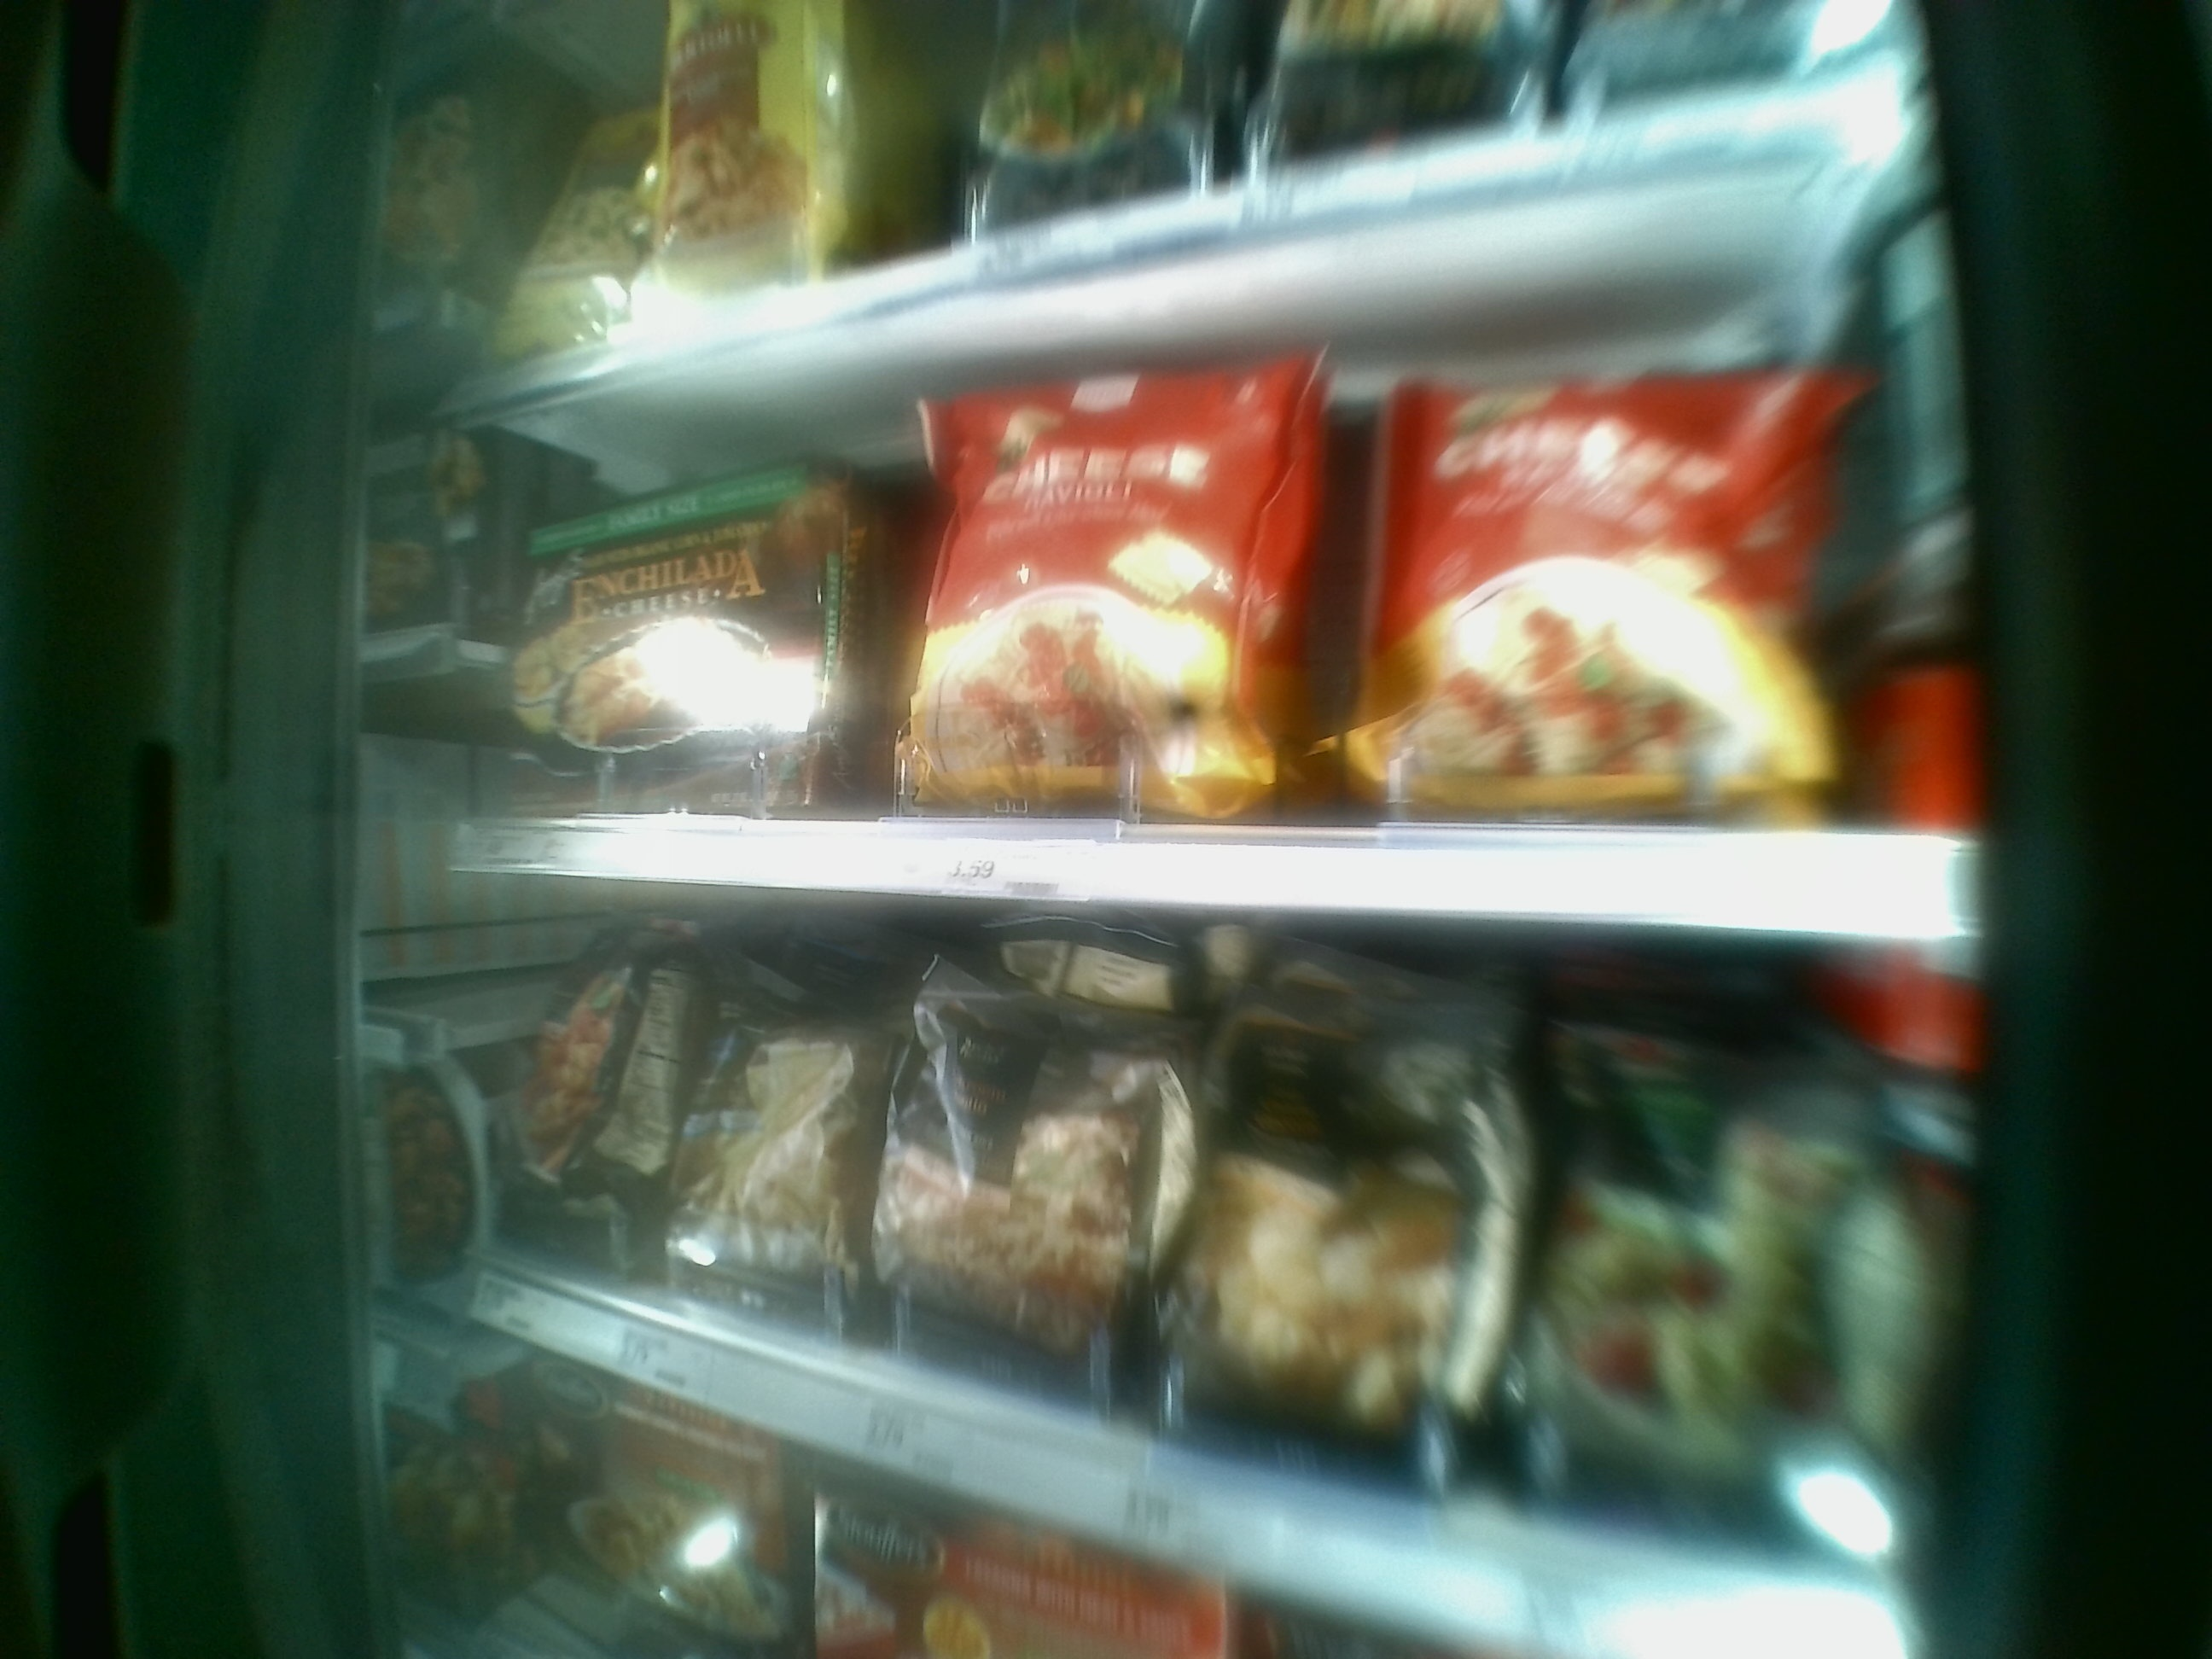shelf: (435, 186, 1970, 938)
